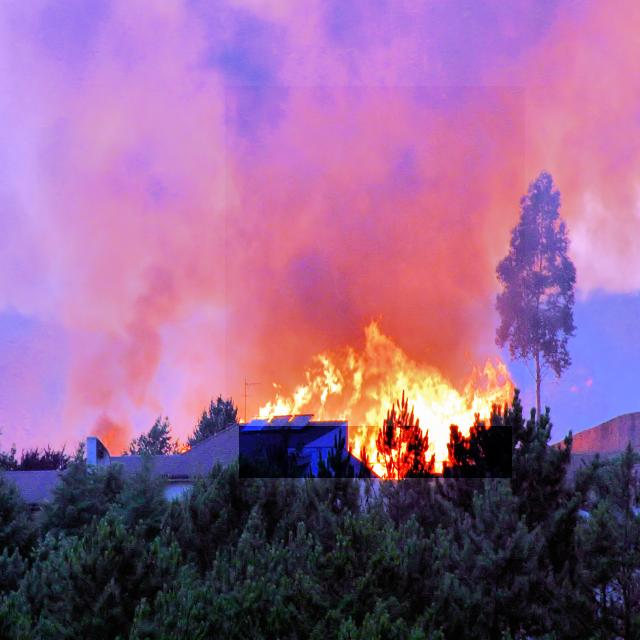Fire: (239, 317, 512, 478)
Smoke: (225, 86, 525, 426)
